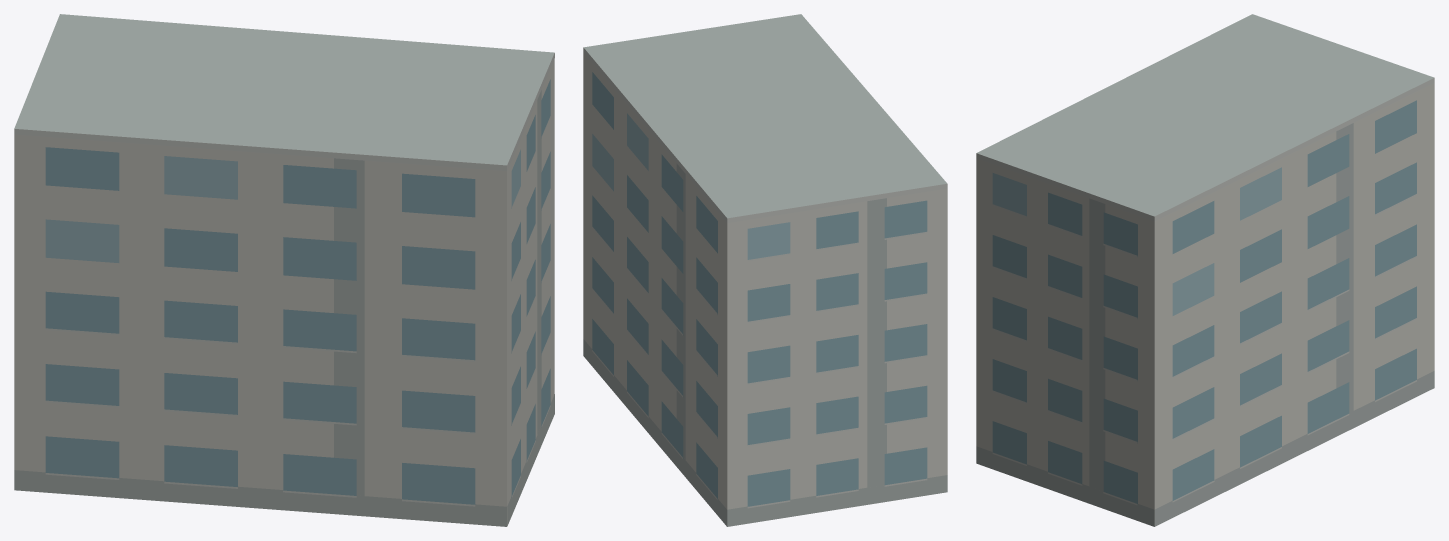
Rendered from survey-upis-32891740.glb.
3 views of the same model, side by side, from view 1: azimuth 30°, elevation 25°; view 2: azimuth 150°, elevation 25°; view 3: azimuth 270°, elevation 25° (orthographic). The views are drawn at different scales.
Visible parts, largest first — view 1: survey-upis-32891740.tmp; view 2: survey-upis-32891740.tmp; view 3: survey-upis-32891740.tmp.
Boxes of the visible parts, x1,y1,x2,y2 form: survey-upis-32891740.tmp: (14, 14, 554, 526); survey-upis-32891740.tmp: (583, 14, 947, 526); survey-upis-32891740.tmp: (976, 14, 1434, 526).
Size of the model in its own units: 21.36 by 15.25 by 20.42.
